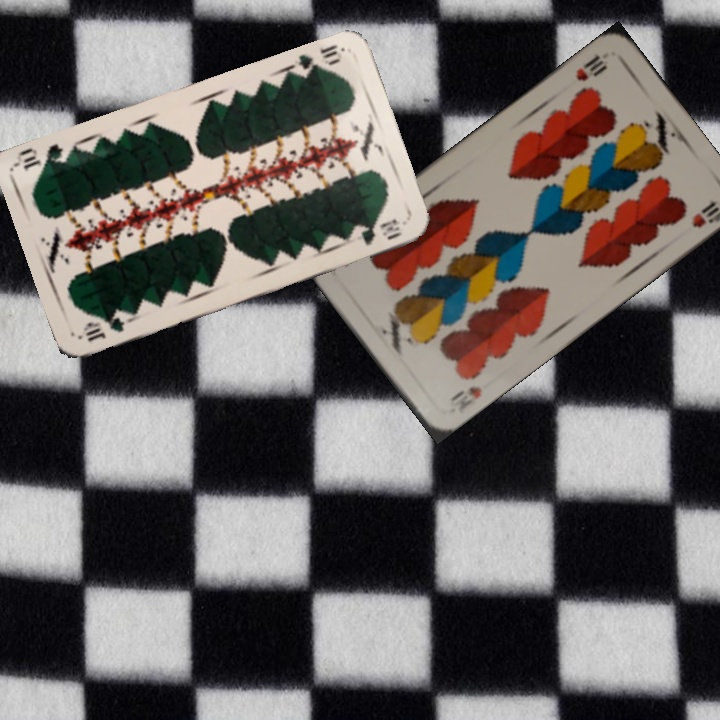G10: (292, 40, 347, 79), (79, 313, 128, 344)
H10: (571, 51, 611, 84), (445, 382, 485, 413)
